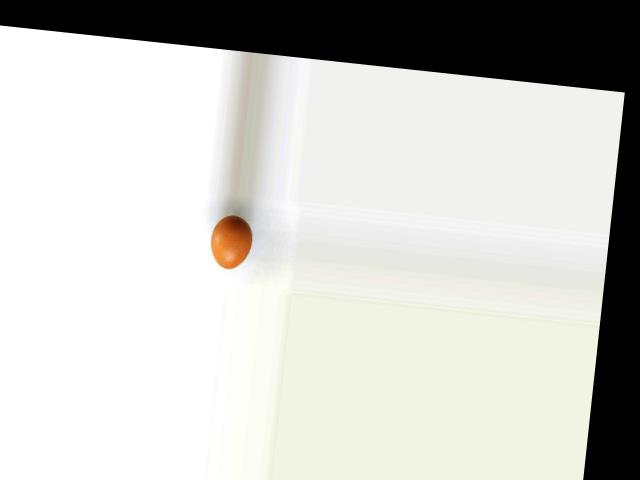egg: (209, 212, 255, 271)
